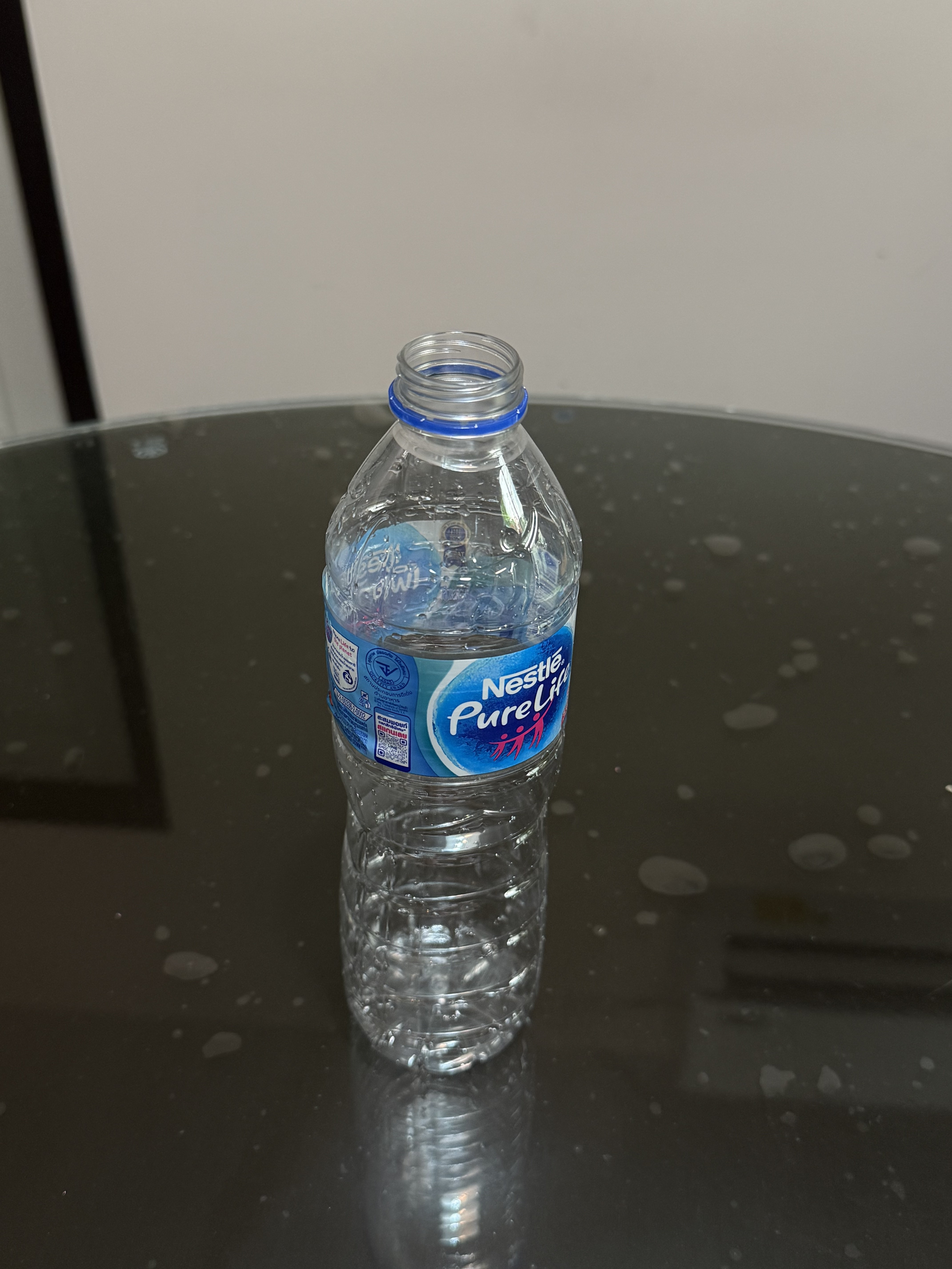no_cap: (384, 326, 532, 441)
